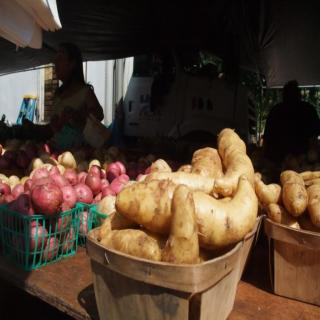Potato: (76, 151, 254, 276), (162, 184, 199, 265)
